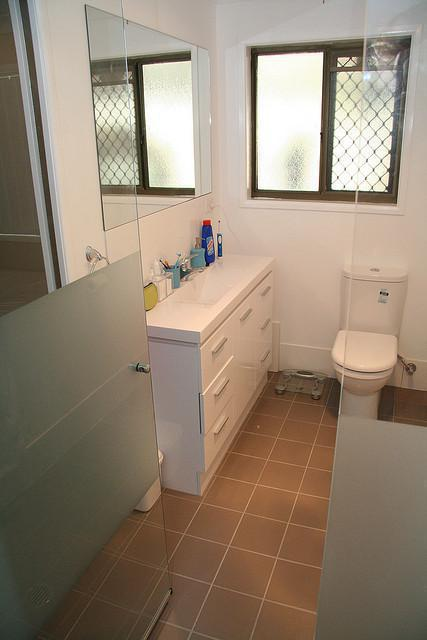Lavamanos: (153, 237, 234, 308)
Sanitario: (329, 253, 406, 433)
